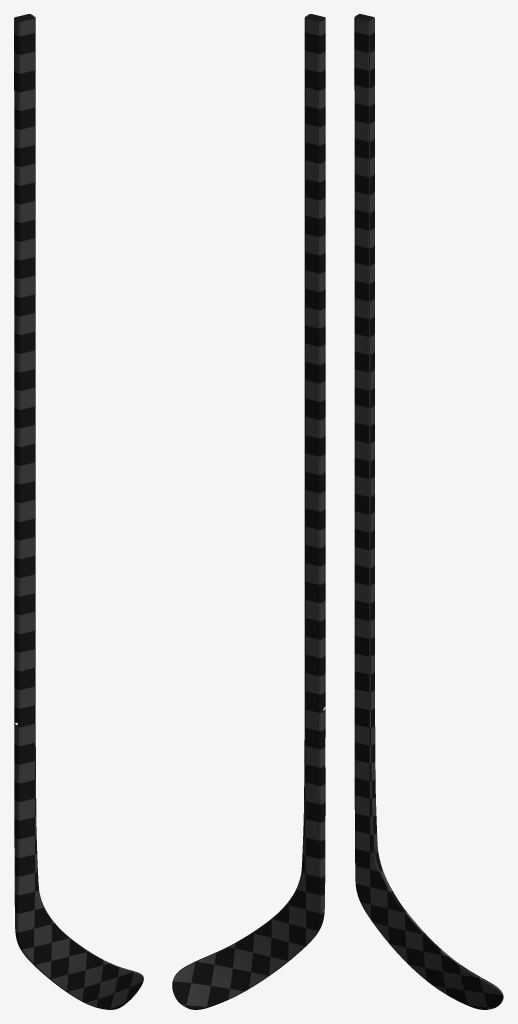
The picture shows the model from 3 angles, left to right: view 1: azimuth 30°, elevation 25°; view 2: azimuth 150°, elevation 25°; view 3: azimuth 330°, elevation 25°; orthographic projection. The views are drawn at different scales.
Parts seen in each view (by area): view 1: geometry_0; view 2: geometry_0; view 3: geometry_0.
Boxes of the visible parts, x1,y1,x2,y2 form: geometry_0: (14,14,143,1009); geometry_0: (172,14,325,1009); geometry_0: (354,14,503,1009).
Size of the model in its own units: 237 by 1650 by 59.49.
Materials: 1 (1 with a texture image).
